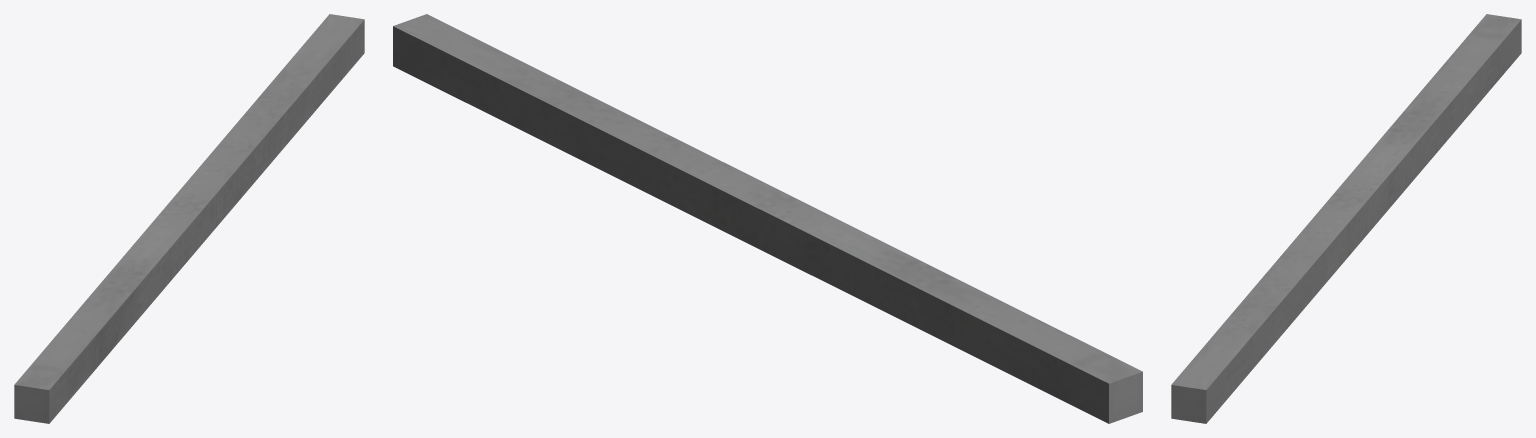
File: base__rear_brace_1.glb
3 renders of one model, left to right at view 1: azimuth 90°, elevation 25°; view 2: azimuth 150°, elevation 25°; view 3: azimuth 270°, elevation 25°, orthographic. The views are drawn at different scales.
Visible parts, largest first — view 1: world; view 2: world; view 3: world.
Boxes of the visible parts, x1=… form: world: x1=14, y1=14, x2=364, y2=423; world: x1=393, y1=14, x2=1142, y2=423; world: x1=1171, y1=14, x2=1521, y2=423.
Size of the model in its own units: 0.7637 by 0.032 by 0.3007.
1 material, 1 textured.
